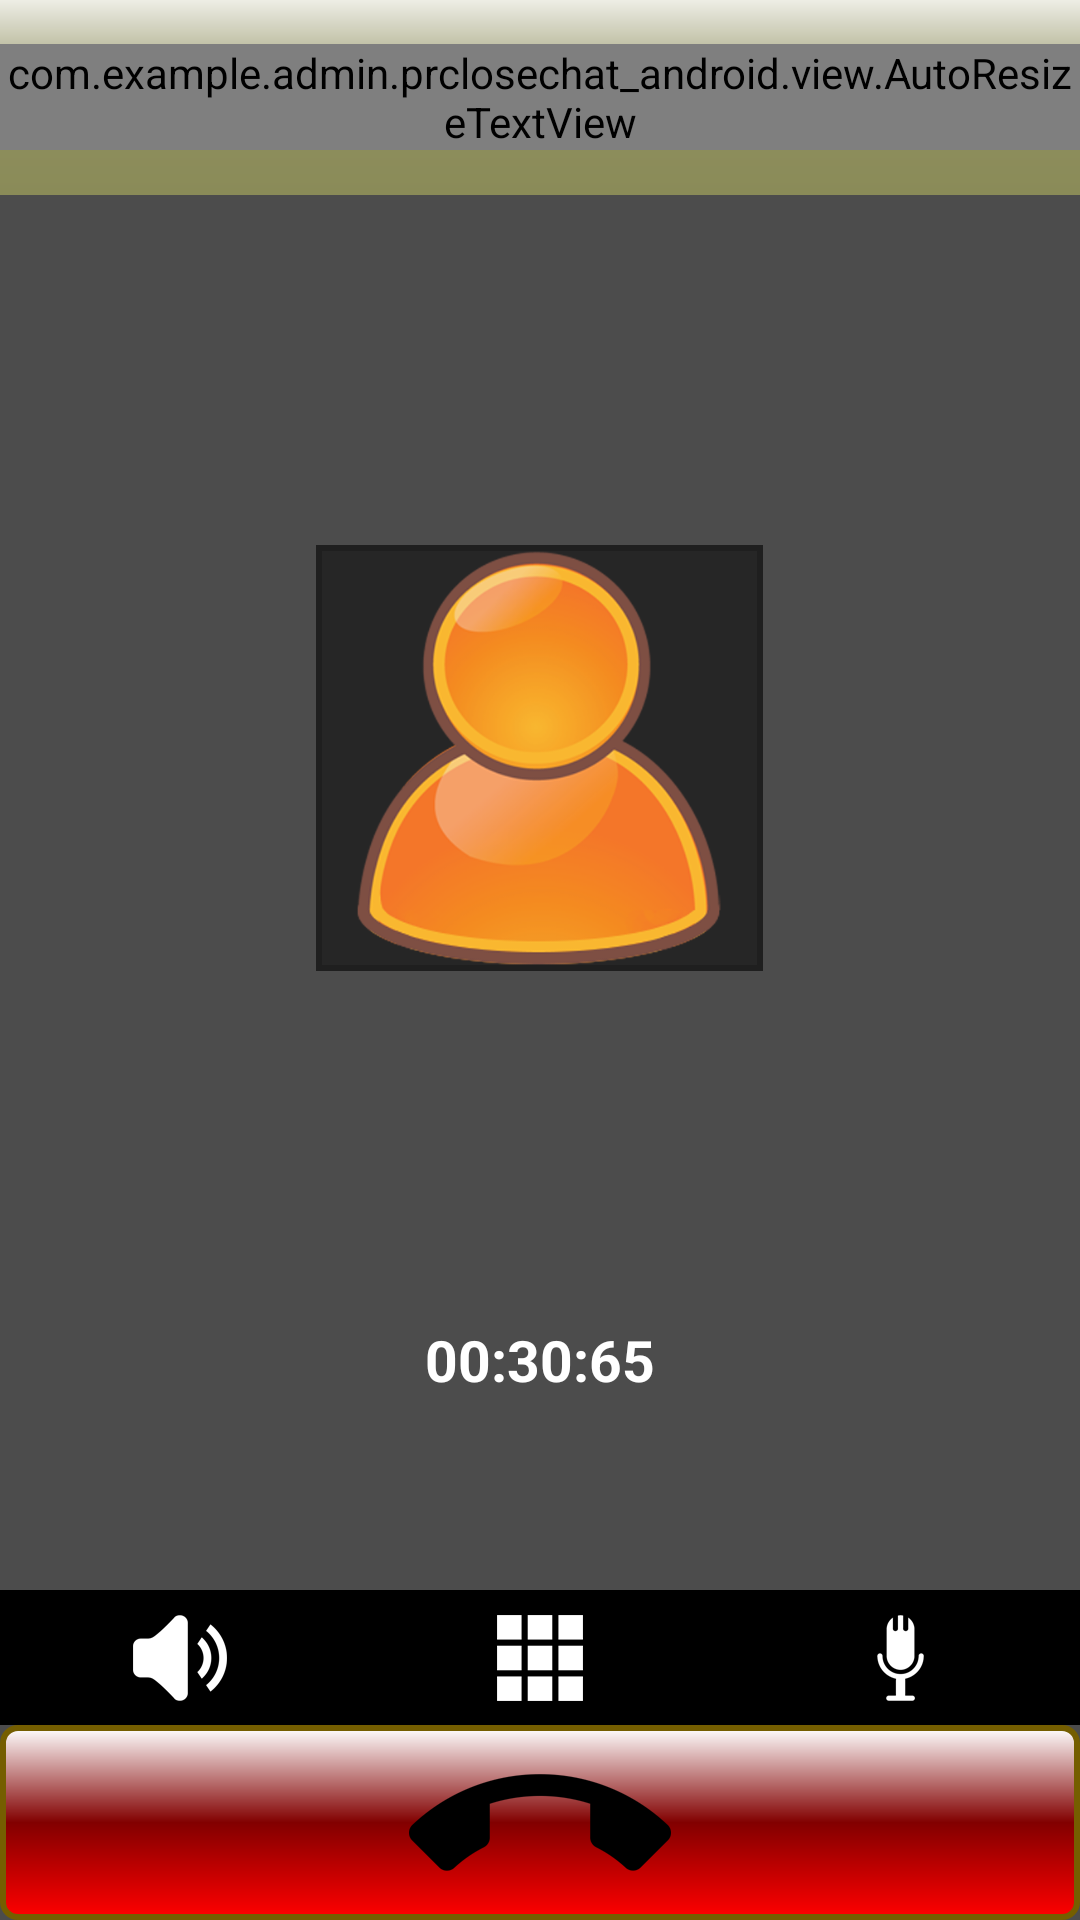

Named icons in this screenshot (1080w x 1920h) and their centers, point (x, y):
call: point (539, 1822)
showkeyboard: point (540, 1658)
